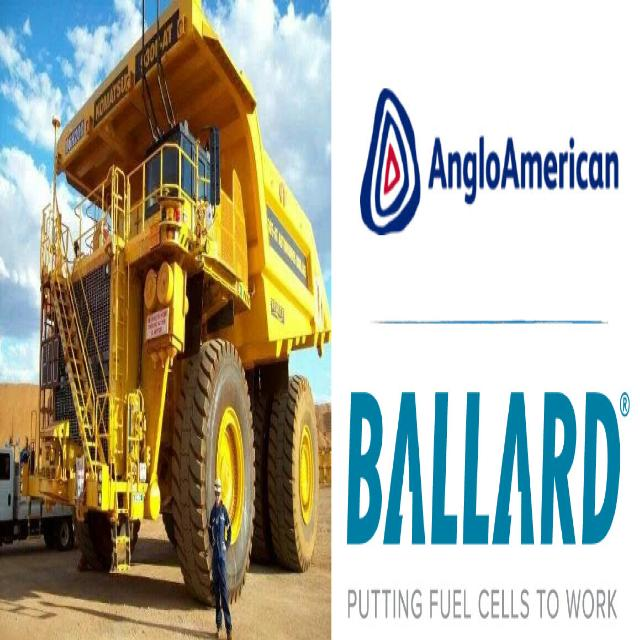dump_truck: (31, 24, 326, 610)
